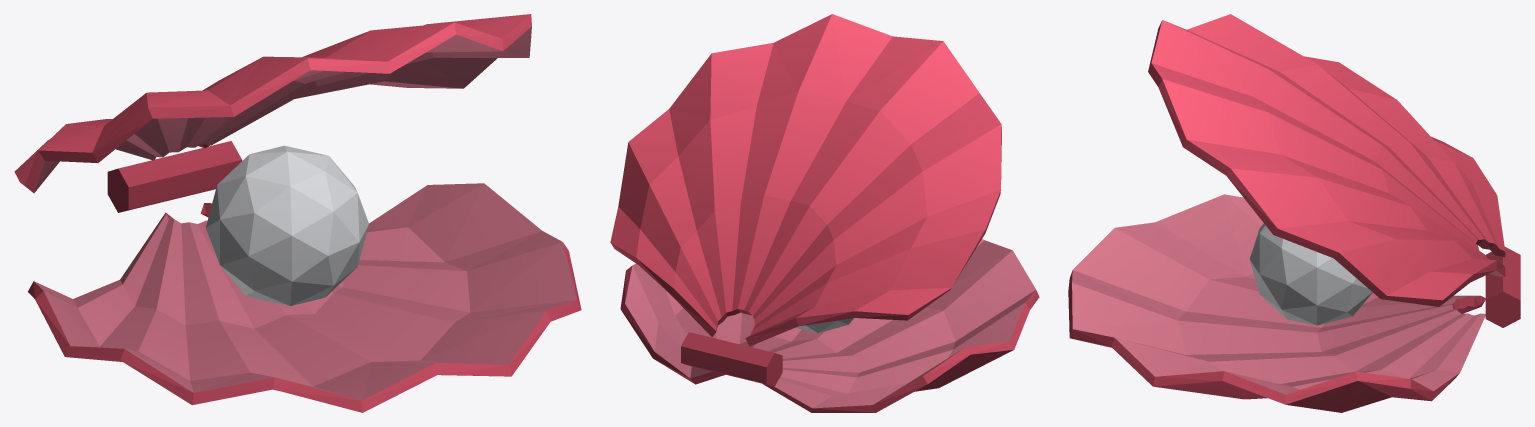
The model's file is clam_pearl.fbx.
The picture shows the model from 3 angles, left to right: view 1: azimuth 30°, elevation 25°; view 2: azimuth 150°, elevation 25°; view 3: azimuth 270°, elevation 25°; orthographic projection. The views are drawn at different scales.
Parts seen in each view (by area): view 1: clam_pearl_ShellBottomInner, clam_pearl_Pearl, clam_pearl_ShellTop, clam_pearl_ShellBottom, clam_pearl_ShellTopInner; view 2: clam_pearl_ShellTop, clam_pearl_ShellBottomInner, clam_pearl_ShellBottom, clam_pearl_Pearl; view 3: clam_pearl_ShellTop, clam_pearl_ShellBottomInner, clam_pearl_ShellBottom, clam_pearl_Pearl.
Part boxes in pixels (x1,y1,x2,y2): clam_pearl_ShellBottomInner: (34,183,576,400); clam_pearl_Pearl: (206,145,368,306); clam_pearl_ShellTop: (14,14,531,192); clam_pearl_ShellBottom: (28,141,581,412); clam_pearl_ShellTopInner: (34,26,531,192); clam_pearl_ShellTop: (610,14,1001,346); clam_pearl_ShellBottomInner: (625,239,1035,408); clam_pearl_ShellBottom: (620,266,1039,412); clam_pearl_Pearl: (796,318,853,332); clam_pearl_ShellTop: (1148,14,1505,306); clam_pearl_ShellBottomInner: (1072,194,1485,394); clam_pearl_ShellBottom: (1068,247,1520,412); clam_pearl_Pearl: (1249,223,1372,325).
Size of the model in its own units: 2.73 by 1.96 by 2.68.
